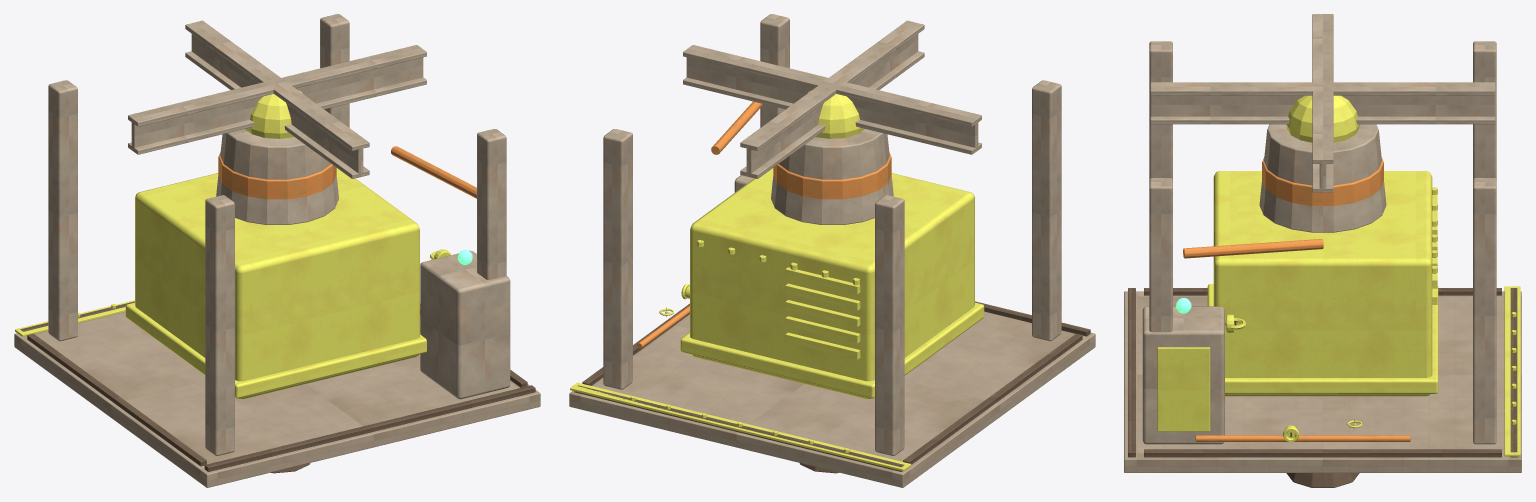
Rendered from ff-electric-drill.glb.
3 renders of one model, left to right at view 1: azimuth 30°, elevation 25°; view 2: azimuth 150°, elevation 25°; view 3: azimuth 270°, elevation 25°, orthographic. The views are drawn at different scales.
Parts seen in each view (by area): view 1: Bolt.001, Post.001, Pad.001, GantryXWeb, PadLipN.001, PadPipe.001, GaugeBoss; view 2: Bolt.001, Pad.001, Post.001, GantryXWeb, PadLipN.001, PadPipe.001, GaugeBoss; view 3: Bolt.001, Pad.001, GantryXWeb, Post.001, PadLipN.001, PadPipe.001, GaugeBoss, Bit.001.
Part boxes in pixels (x1,y1,x2,y2): Bolt.001: (78,90,450,399); Post.001: (48,14,510,455); Pad.001: (14,312,540,487); GantryXWeb: (128,20,426,224); PadLipN.001: (20,301,535,471); PadPipe.001: (218,146,476,312); GaugeBoss: (15,300,134,336); Bolt.001: (630,90,984,453); Pad.001: (569,311,1095,487); Post.001: (603,14,1061,455); GantryXWeb: (683,20,981,224); PadLipN.001: (574,301,1090,471); PadPipe.001: (637,101,891,348); GaugeBoss: (570,311,911,471); Bolt.001: (1157,95,1516,438); Pad.001: (1124,291,1521,472); GantryXWeb: (1150,14,1495,232); Post.001: (1142,41,1496,444); PadLipN.001: (1128,288,1517,457); PadPipe.001: (1183,157,1410,441); GaugeBoss: (1353,286,1520,456); Bit.001: (1286,473,1359,487).
Size of the model in its own units: 3 by 3.22 by 3.
Materials: 10 (8 with a texture image).
